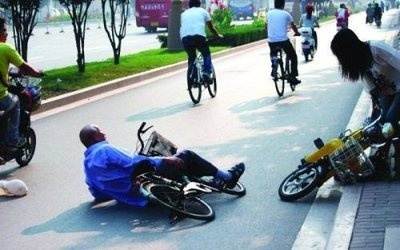falling: (66, 115, 248, 215)
